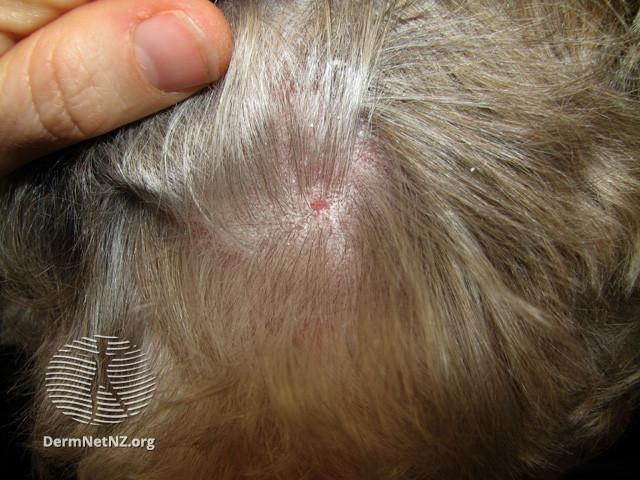Psoriasis: (255, 138, 386, 255)
